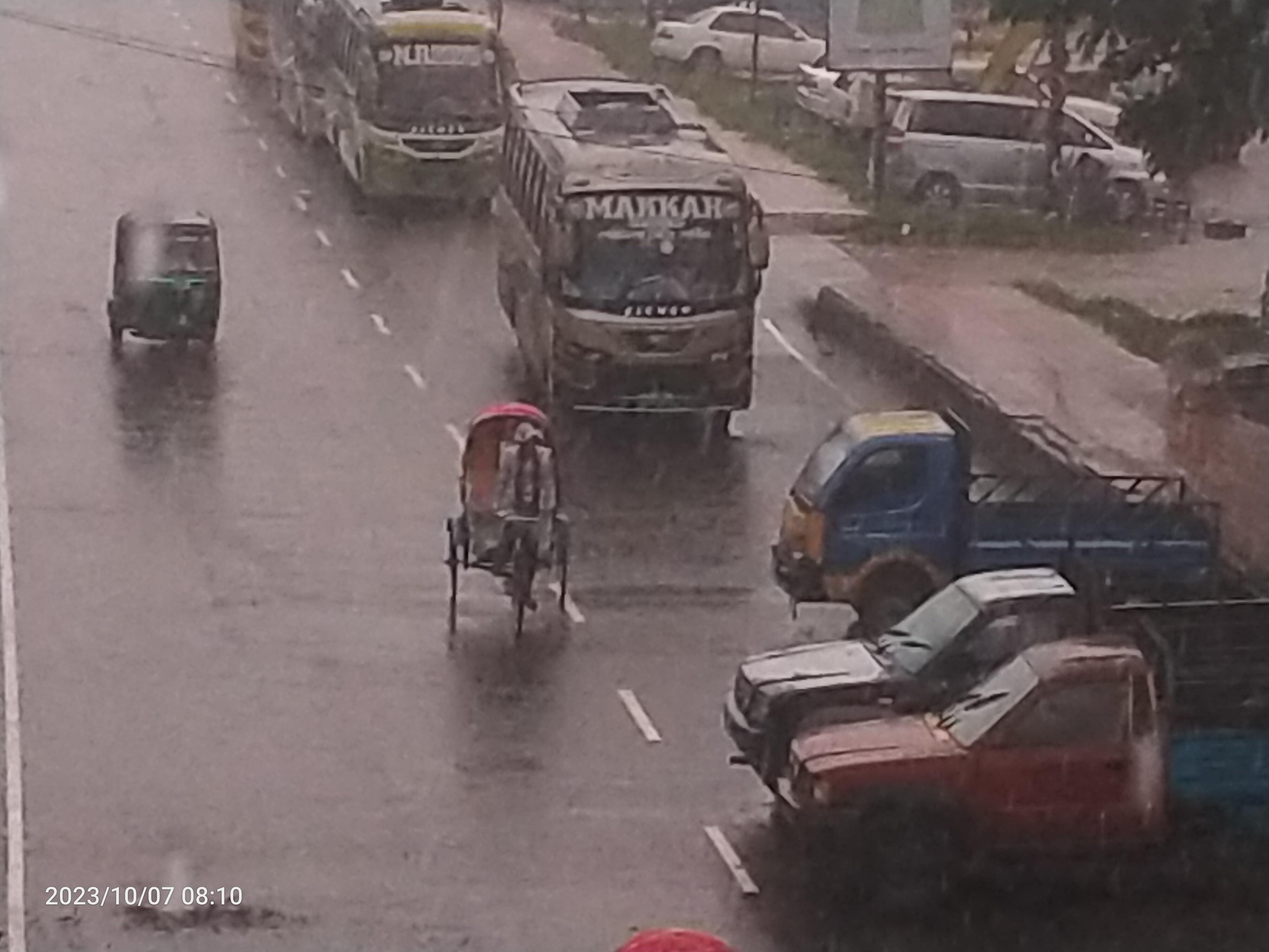Bus: (482, 71, 795, 452), (314, 4, 536, 229)
Car: (848, 81, 1215, 258), (428, 376, 589, 657), (634, 10, 841, 83), (793, 43, 918, 142)
Truck: (769, 638, 1269, 922), (745, 387, 1269, 606), (712, 560, 1269, 719)
